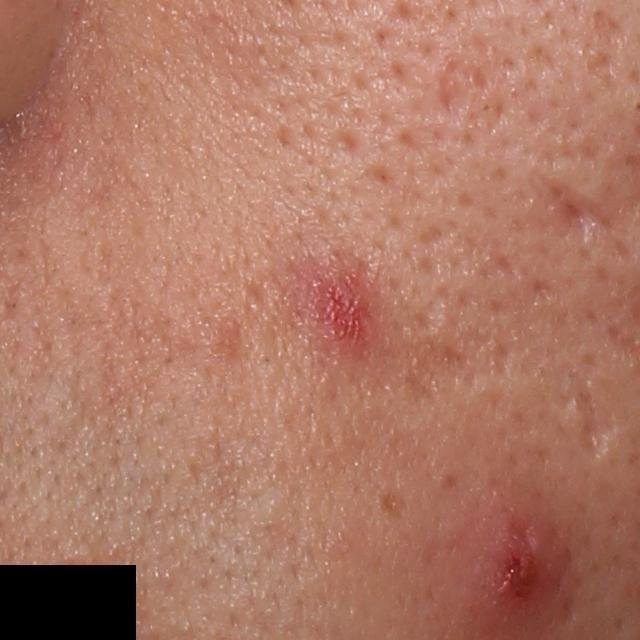atrophic_scar: (531, 170, 635, 269), (551, 363, 618, 460), (417, 66, 475, 128), (585, 47, 621, 85), (588, 8, 625, 42)
papule: (470, 521, 553, 623), (312, 269, 369, 337)
